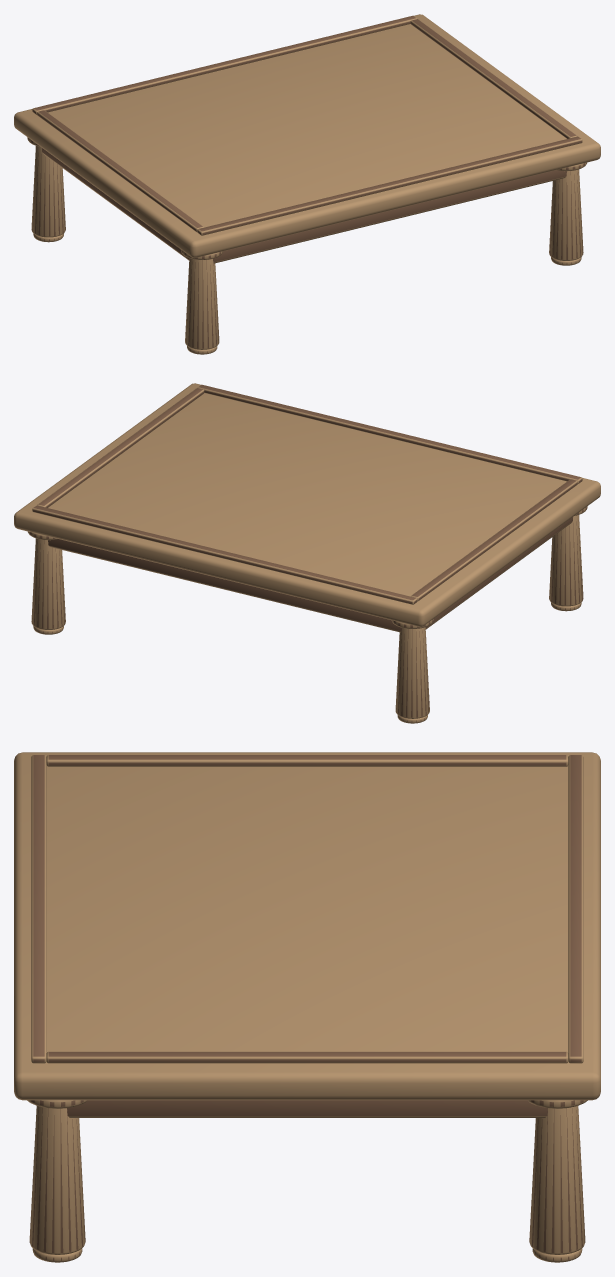
Rendered from SM_WarTable.fbx.
The picture shows the model from 3 angles, top to bottom: view 1: azimuth 30°, elevation 25°; view 2: azimuth 150°, elevation 25°; view 3: azimuth 270°, elevation 25°; orthographic projection. The views are drawn at different scales.
Visible parts, largest first — view 1: SM_WarTable; view 2: SM_WarTable; view 3: SM_WarTable.
Part boxes in pixels (<box>): SM_WarTable: <box>14,14,600,354</box>; SM_WarTable: <box>14,383,600,723</box>; SM_WarTable: <box>14,752,600,1262</box>.
Bounding box in the file's own units: 460 × 134 × 350.
